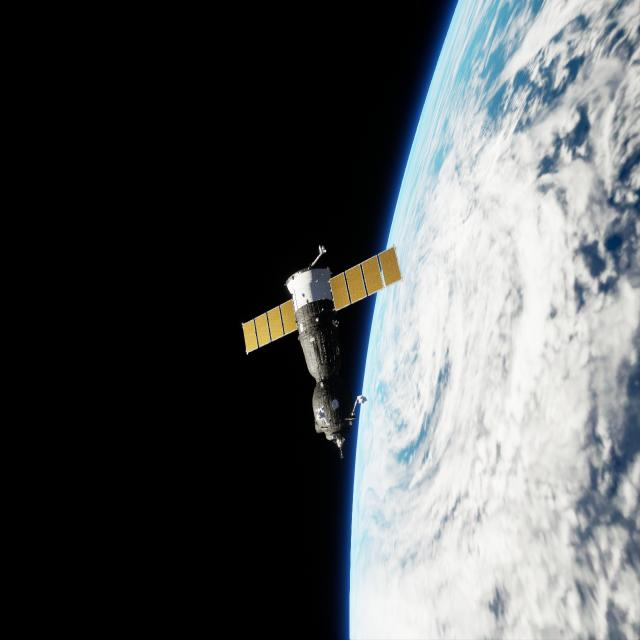Satellites revolving around earth: (239, 239, 405, 462)
